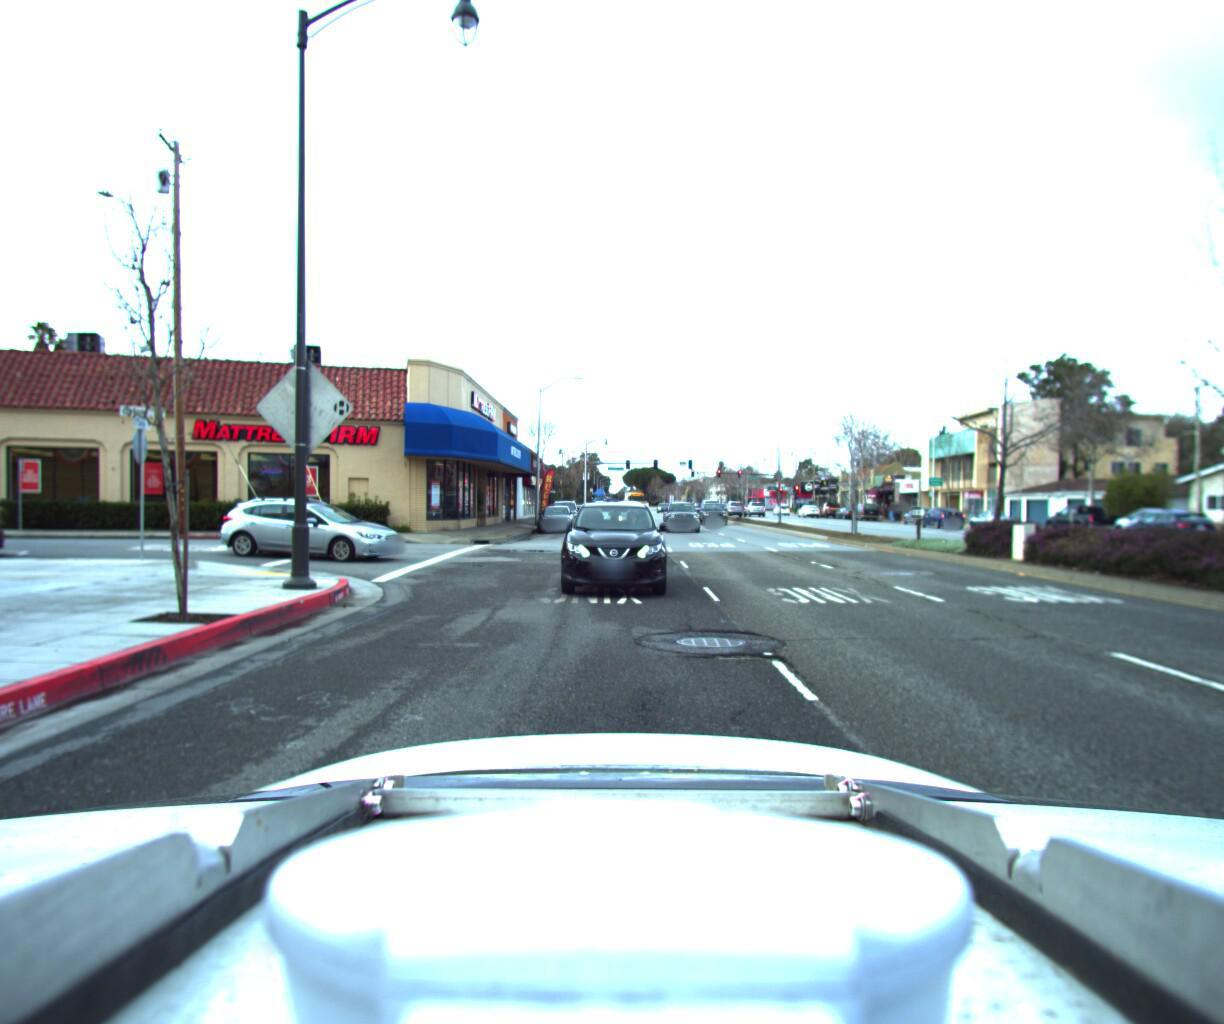car: (211, 488, 412, 560), (563, 499, 676, 609), (1105, 504, 1210, 543), (1103, 499, 1201, 534), (1038, 496, 1126, 529), (0, 491, 24, 565), (662, 494, 703, 527), (534, 494, 575, 525), (962, 502, 1017, 523), (913, 501, 963, 523), (546, 491, 580, 522), (697, 492, 732, 519), (848, 494, 880, 513)
